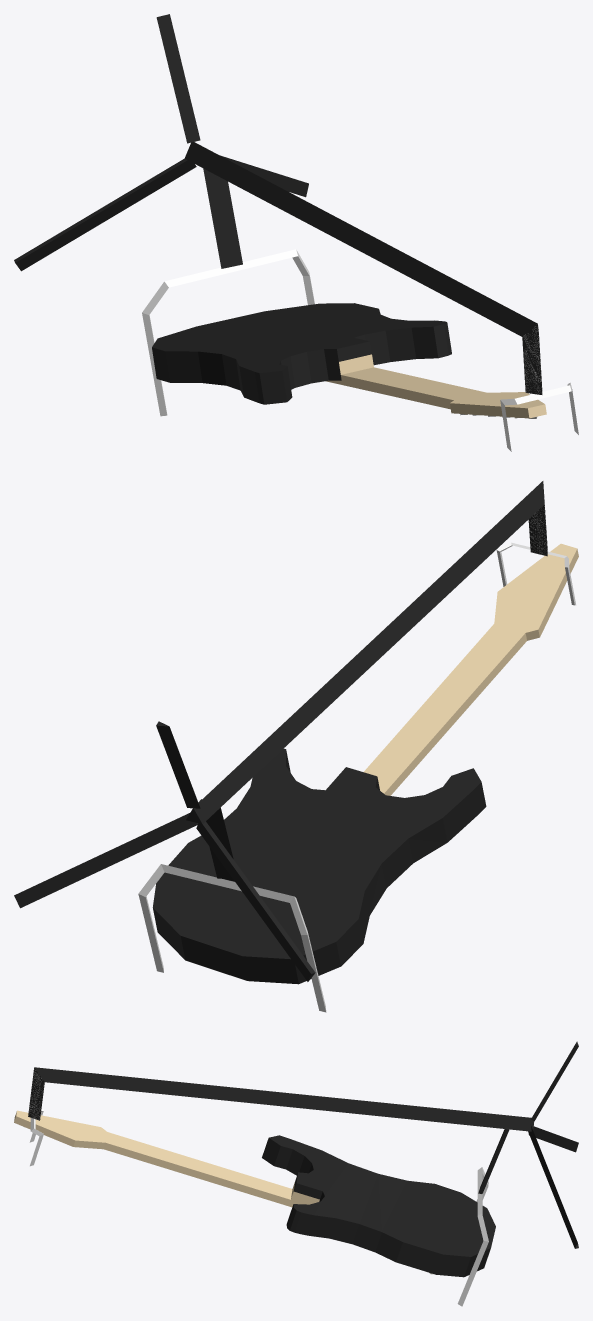
The picture shows the model from 3 angles, top to bottom: view 1: azimuth 30°, elevation 25°; view 2: azimuth 150°, elevation 25°; view 3: azimuth 270°, elevation 25°; orthographic projection. The views are drawn at different scales.
Parts seen in each view (by area): view 1: electric guitar in stand; view 2: electric guitar in stand; view 3: electric guitar in stand.
Part boxes in pixels (left/top/right/bottom): electric guitar in stand: left=14, top=14, right=578, bottom=451; electric guitar in stand: left=14, top=481, right=578, bottom=1012; electric guitar in stand: left=14, top=1041, right=578, bottom=1306.
Bounding box in the file's own units: 18.46 × 19.29 × 42.19.
